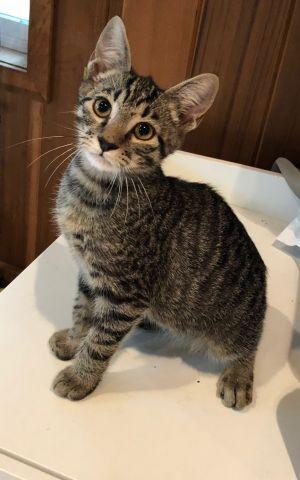bengal: (67, 4, 225, 186)
